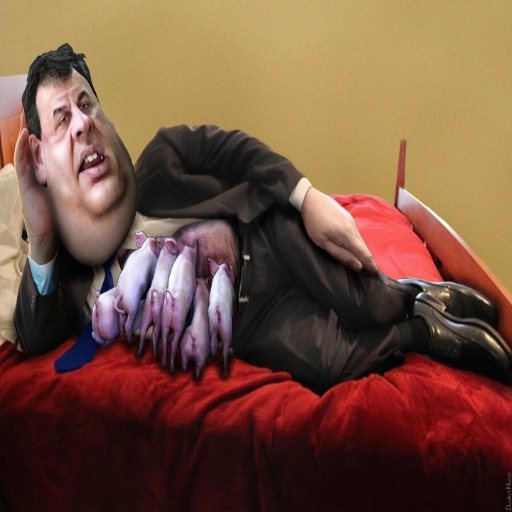hand: (308, 176, 386, 287), (11, 107, 56, 256)
